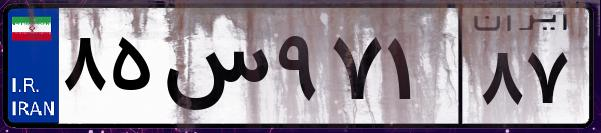1: (385, 28, 445, 110)
5: (110, 28, 158, 98)
7: (330, 28, 385, 110), (525, 38, 570, 115)
8: (57, 26, 110, 100), (475, 38, 525, 113)
9: (270, 28, 330, 110)
س: (158, 20, 270, 120)
